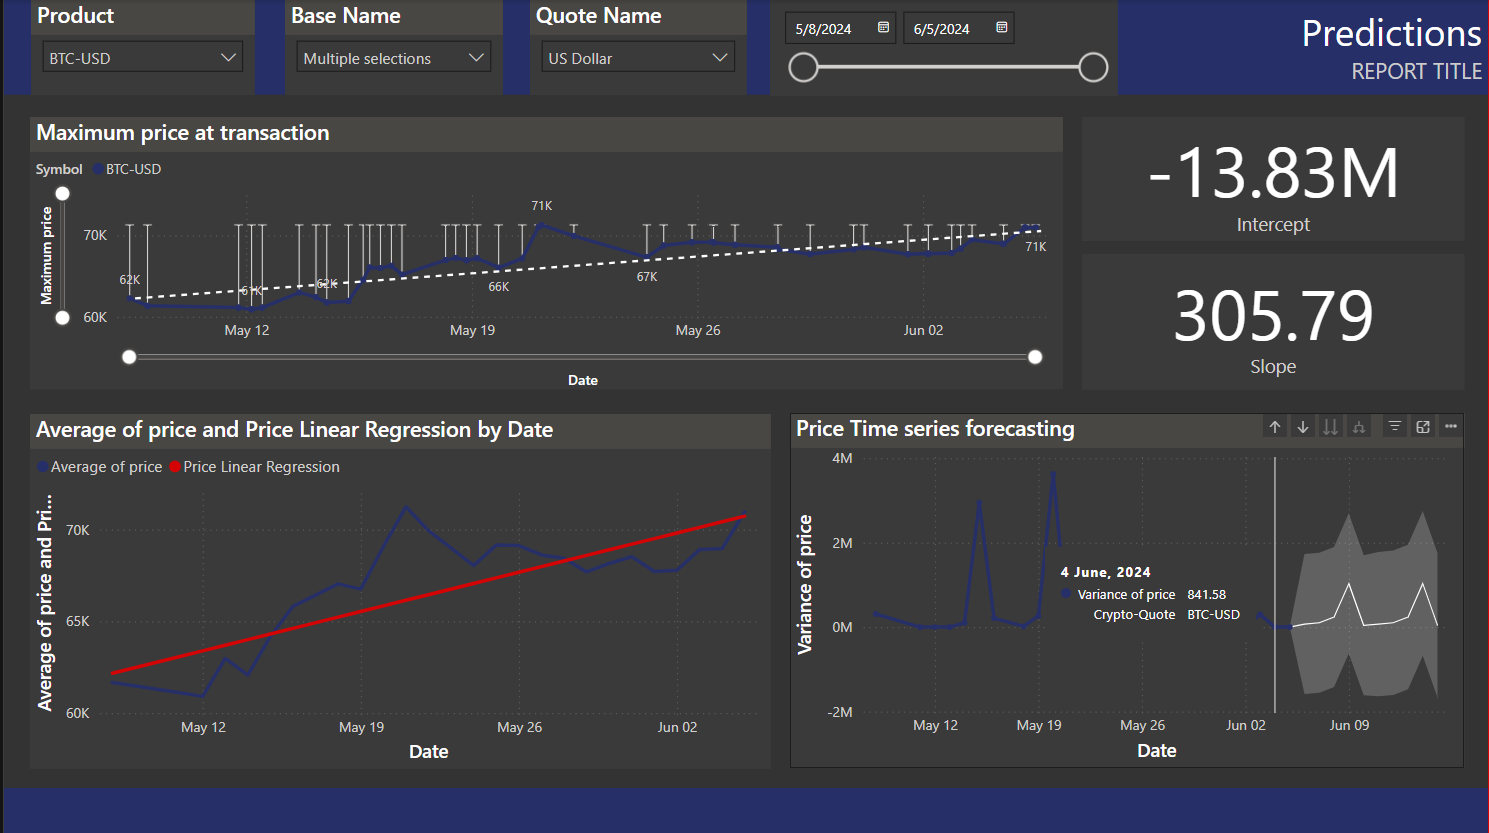

What the dashboard file says about the page in this screenshot:
{"tool":"powerbi","page":{"name":"Predictions","canvas":[1280,720],"ordinal":2},"visuals":[{"type":"group","id":"g1","title":"Bars","box":[0,0,1280,720],"z":0},{"type":"shape","title":"Top bar","box":[0,0,1280,81.7],"z":0,"group":"g1"},{"type":"textbox","title":"Title","box":[1010.8,0,269.2,81.5],"z":1000},{"type":"shape","title":"Bottom bar","box":[0,680,1280,40],"z":1000,"group":"g1"},{"type":"slicer","title":"Product","fields":{"Values":["powerbi Historical_transactions.symbol"]},"box":[23.3,0,193.3,81.7],"z":2000},{"type":"slicer","title":"Quote Name","fields":{"Values":["powerbi Currencies.quote_name"]},"box":[453.3,0,186.7,81.7],"z":3000},{"type":"slicer","title":"Base Name","fields":{"Values":["powerbi Currencies.base_name"]},"box":[242.2,0,187.8,82.2],"z":4000},{"type":"lineChart","title":"Maximum price at transaction","fields":{"Y":["Max(powerbi Historical_transactions.price)"],"Series":["powerbi Historical_transactions.symbol"],"Category":["Transaction_dates.T_time Hierarchy.T_year","Transaction_dates.T_time Hierarchy.T_month","Transaction_dates.T_time Hierarchy.T_day"]},"box":[22.1,101.1,890.5,235.3],"z":5000},{"type":"lineChart","fields":{"Y":["Avg(powerbi Currencies.price)","powerbi Currencies.Linear_reg"],"Category":["Dates.Date.Variation.Date Hierarchy.Year"]},"box":[22.1,356.8,639.5,306.3],"z":6000},{"type":"card","fields":{"Values":["powerbi Currencies.Intercept"]},"box":[930,101.1,330,107.4],"z":7000},{"type":"slicer","fields":{"Values":["Dates.Date"]},"box":[661.1,0,299.6,82.5],"z":8000},{"type":"card","fields":{"Values":["powerbi Currencies.Slope"]},"box":[930,219.5,330,116.8],"z":9000},{"type":"lineChart","title":"Price Time series forecasting","fields":{"Category":["Dates.Year Hierarchy.Year","Dates.Year Hierarchy.Month","Dates.Year Hierarchy.Date"],"Y":["Sum(powerbi Currencies.price)"]},"box":[677.8,356.6,581.6,305.5],"z":11000}]}

Visuals, with their boxes in screenshot pixels (x1, y1, x2, y2), scaled from the page's 1280x720 canvas onto the 1489x833 screenshot:
"Bars" group: <region>0, 0, 1488, 832</region>
"Top bar" shape: <region>0, 0, 1488, 95</region>
"Title" textbox: <region>1176, 0, 1488, 94</region>
"Bottom bar" shape: <region>0, 787, 1488, 832</region>
"Product" slicer: <region>27, 0, 252, 95</region>
"Quote Name" slicer: <region>527, 0, 744, 95</region>
"Base Name" slicer: <region>282, 0, 500, 95</region>
"Maximum price at transaction" lineChart: <region>26, 117, 1062, 389</region>
lineChart - Avg(powerbi Currencies.price) x powerbi Currencies.Linear_reg: <region>26, 413, 770, 767</region>
card - powerbi Currencies.Intercept: <region>1082, 117, 1466, 241</region>
slicer - Dates.Date: <region>769, 0, 1118, 95</region>
card - powerbi Currencies.Slope: <region>1082, 254, 1466, 389</region>
"Price Time series forecasting" lineChart: <region>788, 413, 1465, 766</region>
